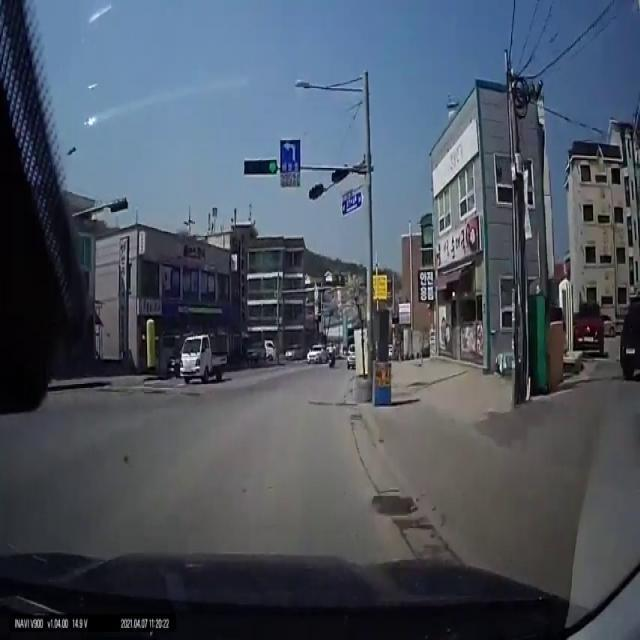Buraco: (369, 493, 421, 516), (389, 516, 436, 532)
